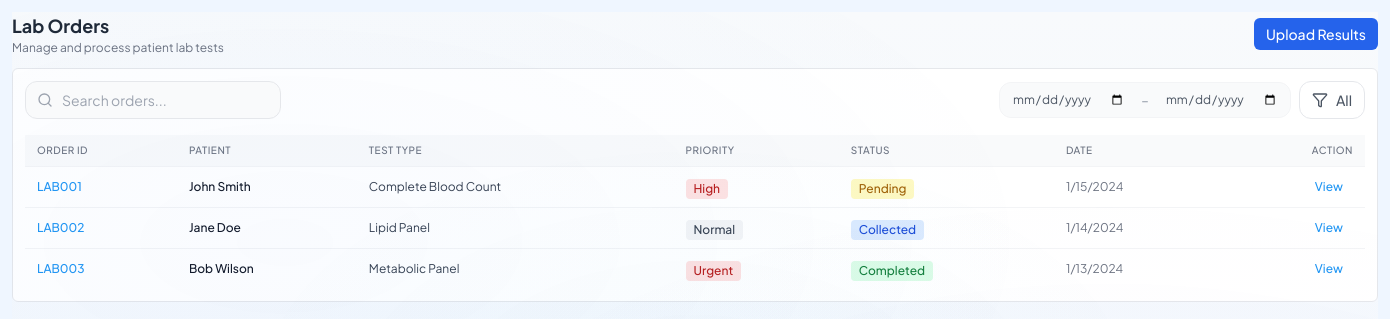
Test: Lab Orders Page › filters orders by search term
Expected: the text "John Smith" is shown, top-left (189, 179), bottom-right (251, 194)
In the field with placeholder "Search orders...": (153, 100) top-left (25, 81), bottom-right (281, 119), type "John"
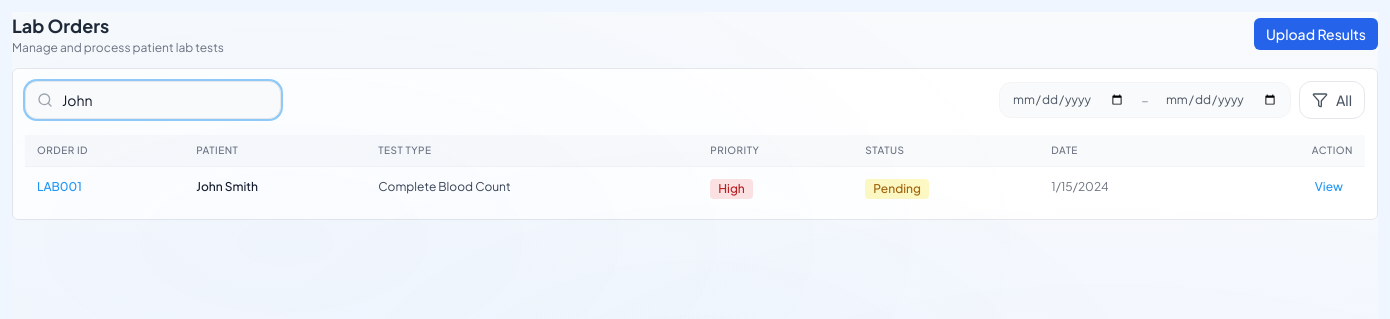
Expected: the text "John Smith" is shown, top-left (196, 179), bottom-right (258, 194)
Result: the text "Jane Doe" is gone
